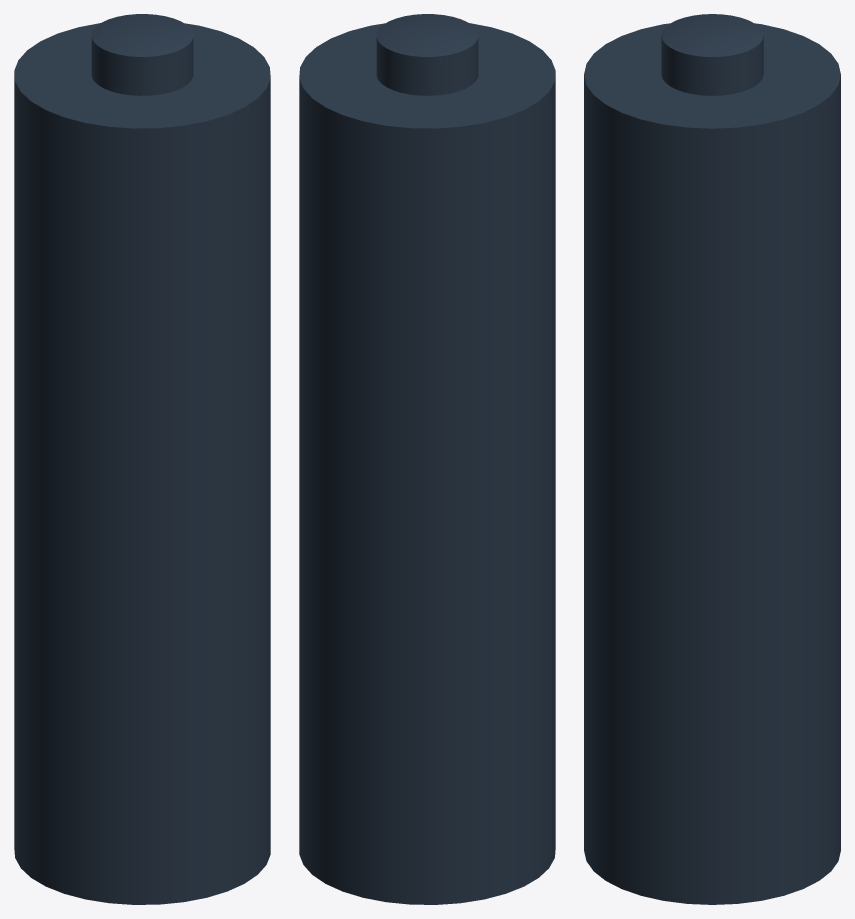
Rendered from battery.fbx.
The picture shows the model from 3 angles, left to right: view 1: azimuth 30°, elevation 25°; view 2: azimuth 150°, elevation 25°; view 3: azimuth 270°, elevation 25°; orthographic projection.
Visible parts, largest first — view 1: Cylinder; view 2: Cylinder; view 3: Cylinder.
Part boxes in pixels (left/top/right/bottom): Cylinder: left=14, top=14, right=270, bottom=904; Cylinder: left=299, top=14, right=555, bottom=904; Cylinder: left=584, top=14, right=840, bottom=904.
Bounding box in the file's own units: 6 × 21.1 × 6.
